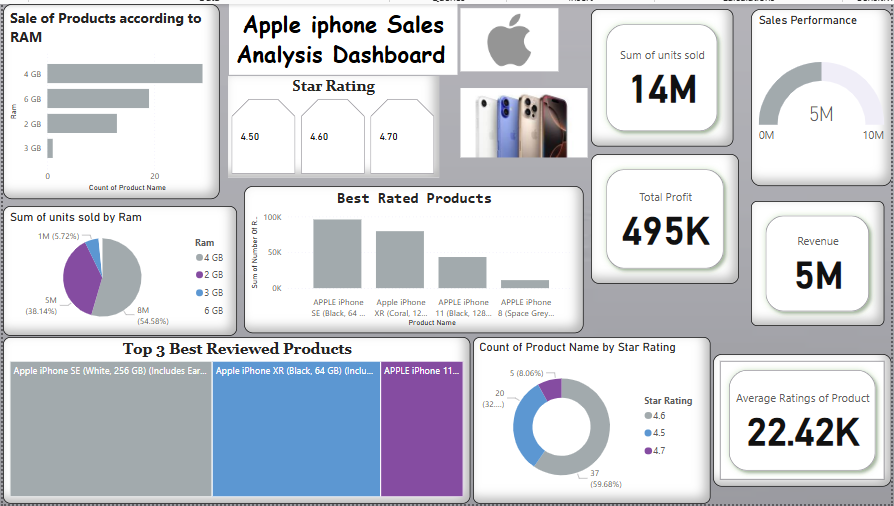

What the dashboard file says about the page in this screenshot:
{"tool":"powerbi","page":{"name":"Page 1","canvas":[1280,720],"ordinal":0},"visuals":[{"type":"barChart","title":"Sale of Products according to RAM","fields":{"Category":["apple_products.Ram"],"Y":["CountNonNull(apple_products.Product Name)"]},"box":[0,0,312.4,280.5],"z":0},{"type":"cardVisual","fields":{"Data":["Sum(apple_products.Sale Price)"]},"box":[1077.1,283.7,191.5,180],"z":1000},{"type":"cardVisual","fields":{"Data":["Sum(apple_products.units sold)"]},"box":[846.6,6.7,204.9,198.2],"z":2000},{"type":"pieChart","fields":{"Category":["apple_products.Ram"],"Y":["Sum(apple_products.units sold)"]},"box":[0,291.2,336.6,187.3],"z":3000},{"type":"treemap","title":"Top 3 Best Reviewed Products","fields":{"Group":["apple_products.Product Name"],"Values":["Sum(apple_products.Number Of Reviews)"]},"box":[0,480.2,673,240.1],"z":4000},{"type":"advancedSlicerVisual","fields":{"Values":["apple_products.Star Rating"]},"box":[324.2,104.1,304,146.1],"z":5000},{"type":"cardVisual","fields":{"Data":["Sum(apple_products.Profit)"]},"box":[846.7,216,213.1,187.2],"z":6000},{"type":"donutChart","fields":{"Category":["apple_products.Star Rating"],"Y":["CountNonNull(apple_products.Product Name)"]},"box":[676.1,480,342.4,240],"z":7000},{"type":"cardVisual","fields":{"Data":["Avg(apple_products.Number Of Ratings)"]},"box":[1023,503.9,257,191.5],"z":8000},{"type":"gauge","fields":{"Y":["Sum(apple_products.Sale Price)"]},"box":[1076.7,6.7,203.3,255.3],"z":9000},{"type":"columnChart","title":"Best Rated Products","fields":{"Category":["apple_products.Product Name"],"Y":["Sum(apple_products.Number Of Ratings)"]},"box":[346.8,262,488.8,212.2],"z":10000},{"type":"textbox","box":[324.9,0,329.3,102.4],"z":11000},{"type":"image","box":[654.1,0,150.7,103.9],"z":12000},{"type":"image","box":[654.1,0,193.2,342.4],"z":13000}]}

Visuals, with their boxes in screenshot pixels (x1, y1, x2, y2), scaled from the page's 1280x720 canvas onto the 894x506 screenshot:
"Sale of Products according to RAM" barChart: bbox(0, 0, 218, 197)
cardVisual - Sum(apple_products.Sale Price): bbox(752, 199, 886, 326)
cardVisual - Sum(apple_products.units sold): bbox(591, 5, 734, 144)
pieChart - apple_products.Ram x Sum(apple_products.units sold): bbox(0, 205, 235, 336)
"Top 3 Best Reviewed Products" treemap: bbox(0, 337, 470, 505)
advancedSlicerVisual - apple_products.Star Rating: bbox(226, 73, 439, 176)
cardVisual - Sum(apple_products.Profit): bbox(591, 152, 740, 283)
donutChart - apple_products.Star Rating x CountNonNull(apple_products.Product Name): bbox(472, 337, 711, 505)
cardVisual - Avg(apple_products.Number Of Ratings): bbox(715, 354, 893, 489)
gauge - Sum(apple_products.Sale Price): bbox(752, 5, 893, 184)
"Best Rated Products" columnChart: bbox(242, 184, 584, 333)
textbox: bbox(227, 0, 457, 72)
image: bbox(457, 0, 562, 73)
image: bbox(457, 0, 592, 241)
